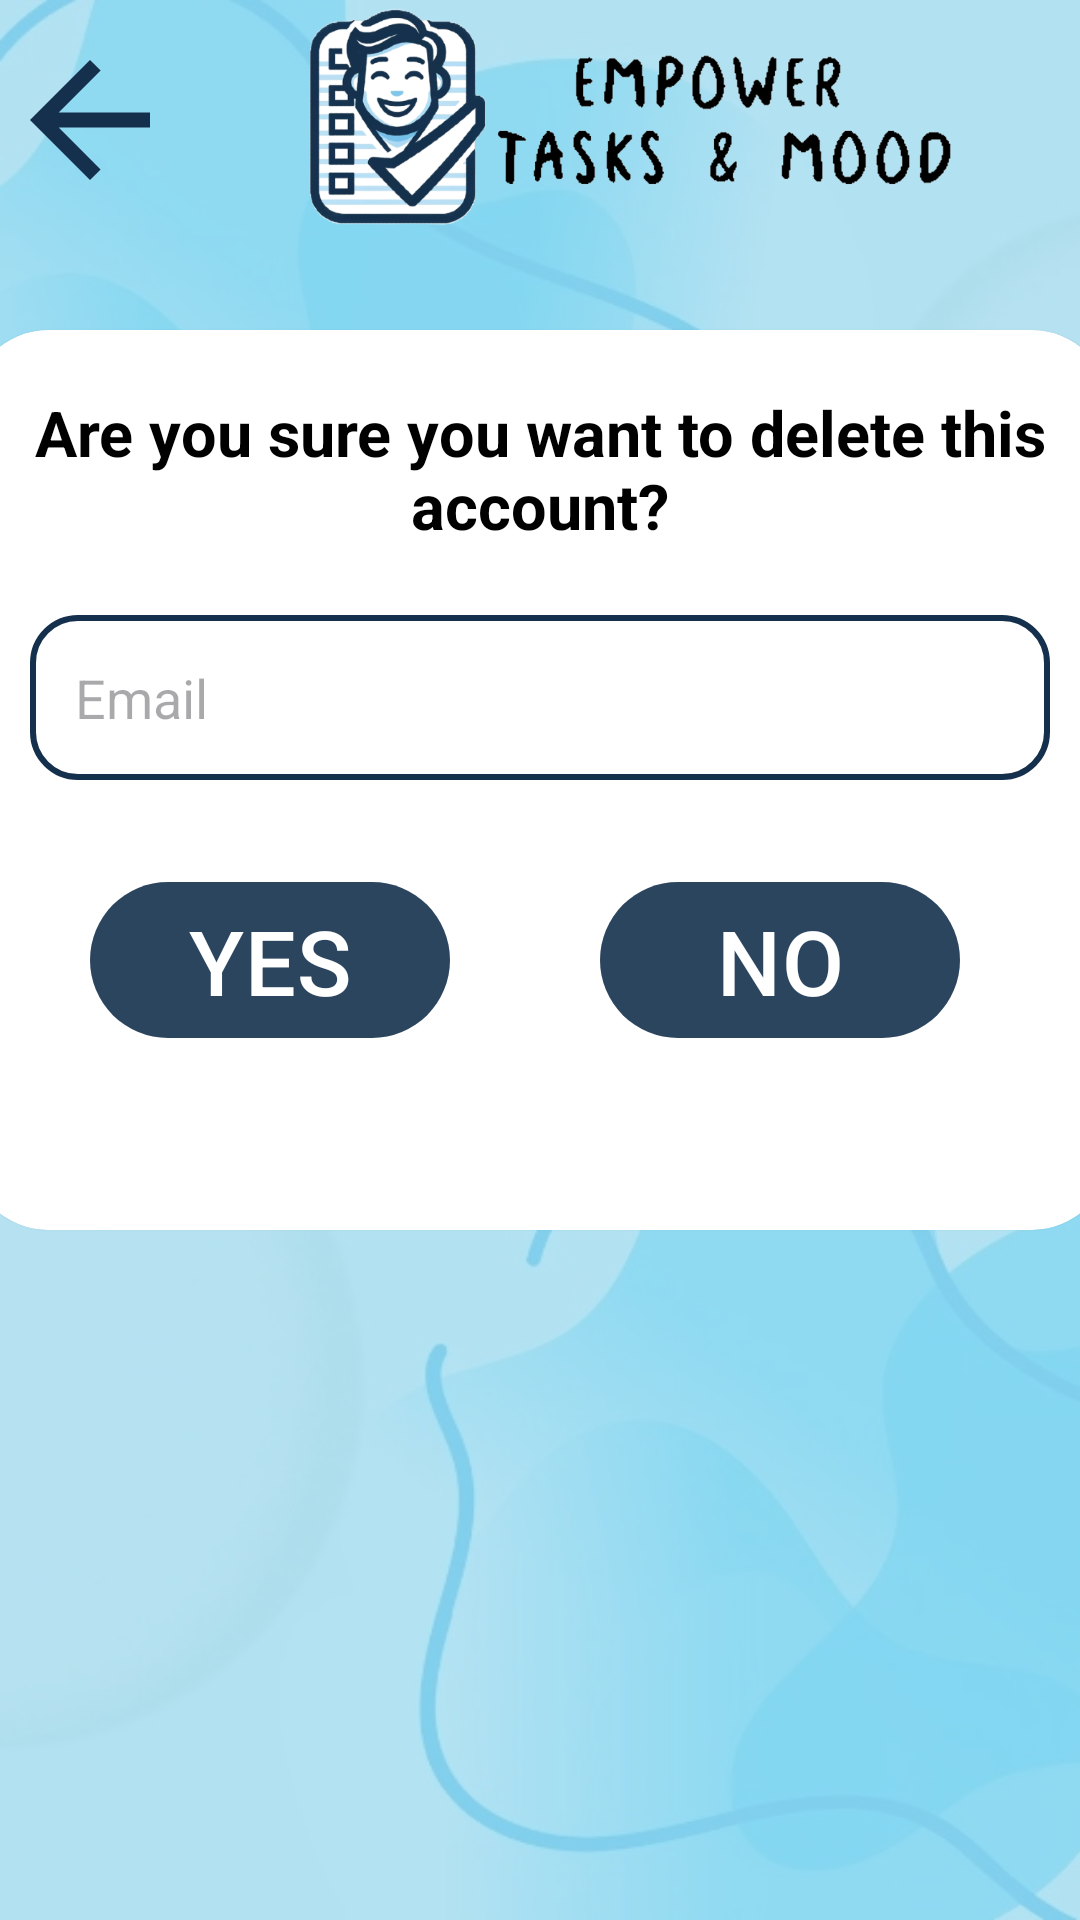

Locate icon controls on the screen. Image size 1080 x 1920, boxes as bbox=(x1, y1, x2, y2).
arrow back: bbox=(0, 0, 150, 184)
